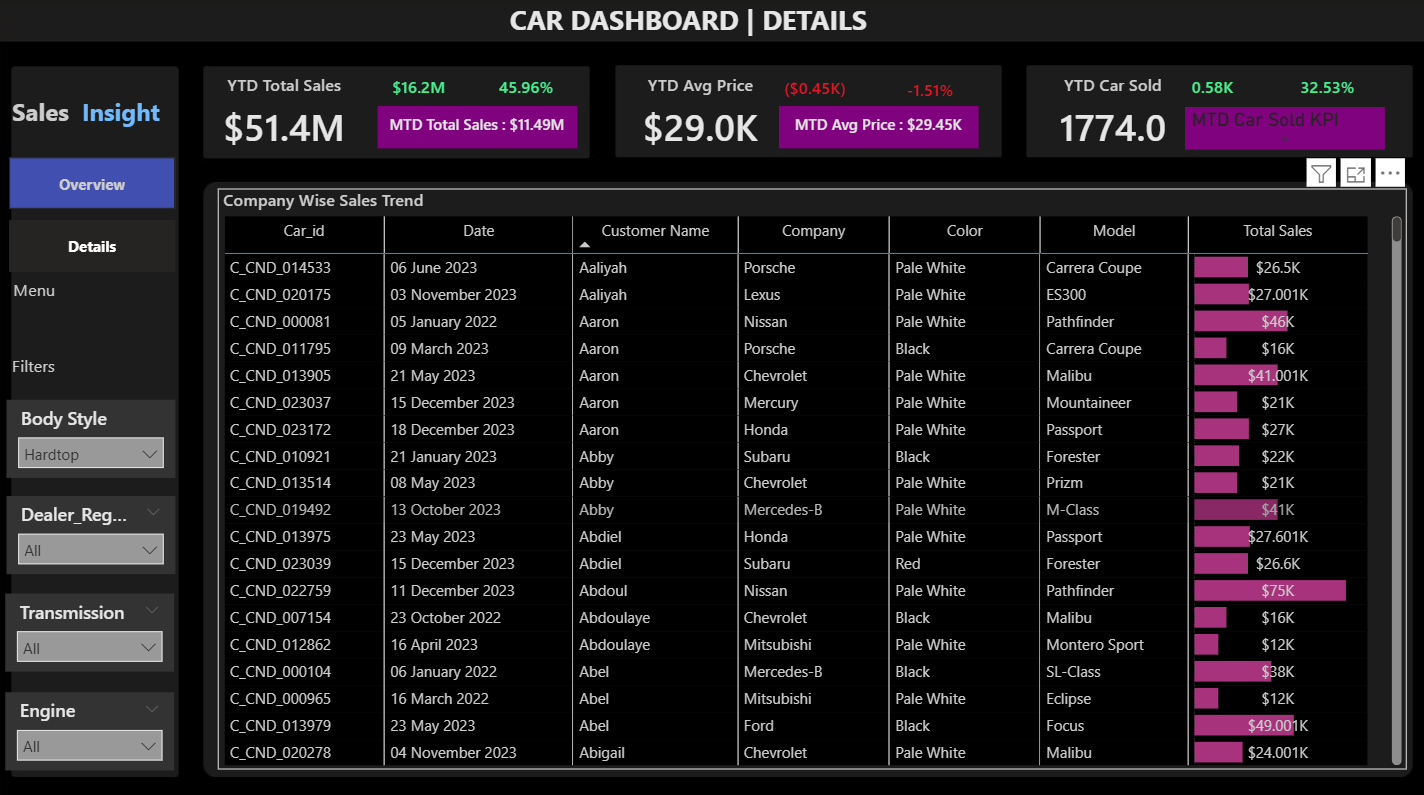

Layout of this report page (visuals, bound fields, positions):
{"tool":"powerbi","page":{"name":"Details","canvas":[1280,720],"ordinal":1},"visuals":[{"type":"card","title":"YTD Total Sales","fields":{"Values":["car_data.YTD Total sale"]},"box":[188.8,68.8,138.8,75],"z":0},{"type":"card","title":"YTD Total Sales","fields":{"Values":["car_data.Sales Difference"]},"box":[327.5,68.8,102.5,28.8],"z":1000},{"type":"card","title":"YTD Total Sales","fields":{"Values":["car_data.YoY Growth"]},"box":[430,68.8,88.8,28.8],"z":2000},{"type":"card","fields":{"Values":["car_data.MTD KPI"]},"box":[341.2,97.5,177.5,37.5],"z":3000},{"type":"card","title":"YTD Avg Price","fields":{"Values":["car_data.YTD Avg price"]},"box":[560,68.8,138.8,75],"z":4000},{"type":"card","title":"YTD Total Sales","fields":{"Values":["car_data.Avg price difference"]},"box":[680,70,102.5,28.8],"z":5000},{"type":"card","title":"YTD Total Sales","fields":{"Values":["car_data.YoY Avg Price growth"]},"box":[782.5,71.2,102.5,28.8],"z":6000},{"type":"card","fields":{"Values":["car_data.MTD Avg price KPI"]},"box":[698.8,97.5,177.5,37.5],"z":7000},{"type":"card","title":"YTD Car Sold","fields":{"Values":["car_data.YTD Car Sold"]},"box":[927.5,68.8,138.8,75],"z":8000},{"type":"card","title":"YTD Total Sales","fields":{"Values":["car_data.Car Sold Difference"]},"box":[1033.8,68.8,102.5,28.8],"z":9000},{"type":"card","title":"YTD Total Sales","fields":{"Values":["car_data.YoY Car sold Growth"]},"box":[1136.2,68.8,102.5,28.8],"z":10000},{"type":"areaChart","box":[1061.2,98.8,177.5,37.5],"z":11000},{"type":"textbox","box":[219.3,0,798.1,45.6],"z":12000},{"type":"slicer","fields":{"Values":["car_data.Body Style"]},"box":[11.6,359.3,150,69.8],"z":13000},{"type":"slicer","fields":{"Values":["car_data.Engine"]},"box":[10.5,619.8,150,69.8],"z":14000},{"type":"slicer","fields":{"Values":["car_data.Transmission"]},"box":[10.5,532.6,150,69.8],"z":15000},{"type":"slicer","fields":{"Values":["car_data.Dealer_Region"]},"box":[11.6,445.4,150,69.8],"z":16000},{"type":"textbox","box":[11.6,314,114,37.2],"z":17000},{"type":"tableEx","title":"Company Wise Sales Trend","fields":{"Values":["car_data.Car_id","car_data.Date","car_data.Customer Name","car_data.Company","car_data.Color","car_data.Model","car_data.Price ($)"]},"box":[198.8,170.9,1059.3,518.6],"z":18000},{"type":"pageNavigator","box":[13.3,143.6,148.4,102.5],"z":18001},{"type":"textbox","box":[10.9,83.2,177.3,51.9],"z":18002},{"type":"textbox","box":[12.1,246.1,123.1,33.8],"z":18003}]}

Visuals, with their boxes on the page's 1280x720 design canvas (x1, y1, x2, y2). These are canvas units, not pixel positions in the 1424x795 screenshot, which may show the page scaled, cropped or inside an application window:
"YTD Total Sales" card: {"left": 189, "top": 69, "right": 328, "bottom": 144}
"YTD Total Sales" card: {"left": 328, "top": 69, "right": 430, "bottom": 98}
"YTD Total Sales" card: {"left": 430, "top": 69, "right": 519, "bottom": 98}
card - car_data.MTD KPI: {"left": 341, "top": 98, "right": 519, "bottom": 135}
"YTD Avg Price" card: {"left": 560, "top": 69, "right": 699, "bottom": 144}
"YTD Total Sales" card: {"left": 680, "top": 70, "right": 782, "bottom": 99}
"YTD Total Sales" card: {"left": 782, "top": 71, "right": 885, "bottom": 100}
card - car_data.MTD Avg price KPI: {"left": 699, "top": 98, "right": 876, "bottom": 135}
"YTD Car Sold" card: {"left": 928, "top": 69, "right": 1066, "bottom": 144}
"YTD Total Sales" card: {"left": 1034, "top": 69, "right": 1136, "bottom": 98}
"YTD Total Sales" card: {"left": 1136, "top": 69, "right": 1239, "bottom": 98}
areaChart: {"left": 1061, "top": 99, "right": 1239, "bottom": 136}
textbox: {"left": 219, "top": 0, "right": 1017, "bottom": 46}
slicer - car_data.Body Style: {"left": 12, "top": 359, "right": 162, "bottom": 429}
slicer - car_data.Engine: {"left": 10, "top": 620, "right": 160, "bottom": 690}
slicer - car_data.Transmission: {"left": 10, "top": 533, "right": 160, "bottom": 602}
slicer - car_data.Dealer_Region: {"left": 12, "top": 445, "right": 162, "bottom": 515}
textbox: {"left": 12, "top": 314, "right": 126, "bottom": 351}
"Company Wise Sales Trend" tableEx: {"left": 199, "top": 171, "right": 1258, "bottom": 690}
pageNavigator: {"left": 13, "top": 144, "right": 162, "bottom": 246}
textbox: {"left": 11, "top": 83, "right": 188, "bottom": 135}
textbox: {"left": 12, "top": 246, "right": 135, "bottom": 280}
